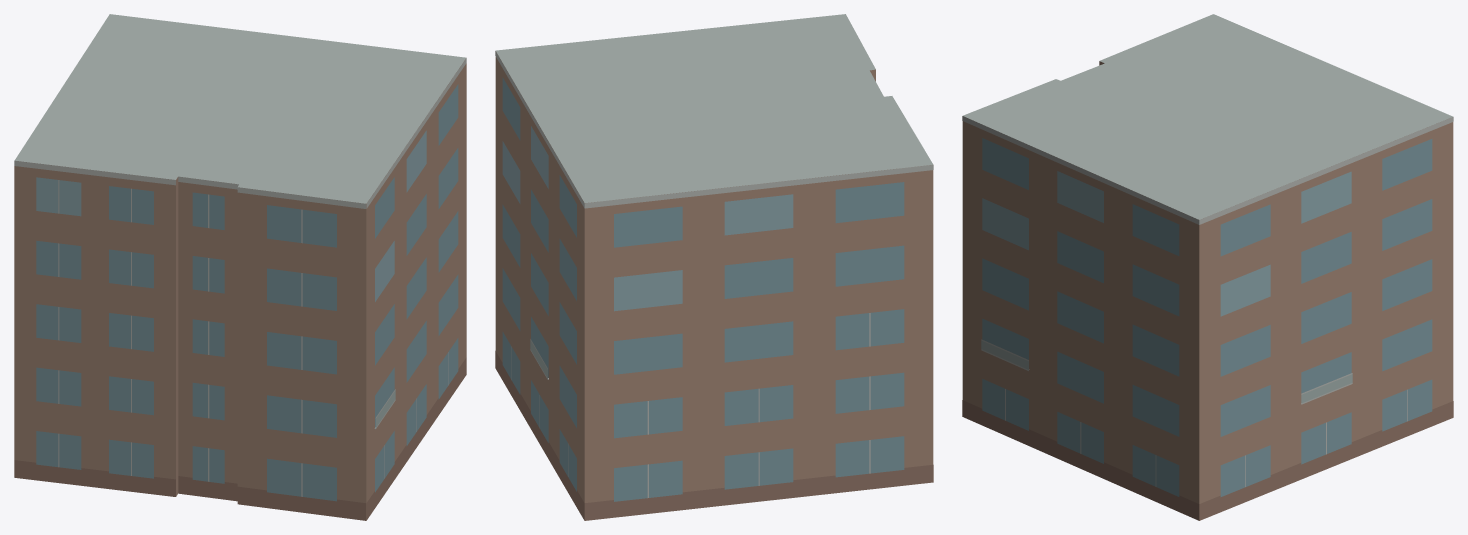
File: survey-upis-32893682.glb
3 views of the same model, side by side, from view 1: azimuth 30°, elevation 25°; view 2: azimuth 150°, elevation 25°; view 3: azimuth 270°, elevation 25° (orthographic). The views are drawn at different scales.
Parts seen in each view (by area): view 1: survey-upis-32893682.tmp; view 2: survey-upis-32893682.tmp; view 3: survey-upis-32893682.tmp.
Boxes of the visible parts, x1,y1,x2,y2 form: survey-upis-32893682.tmp: [14, 14, 466, 520]; survey-upis-32893682.tmp: [495, 14, 933, 520]; survey-upis-32893682.tmp: [962, 14, 1453, 520].
Bounding box in the file's own units: 21.21 × 14.45 × 21.37.
